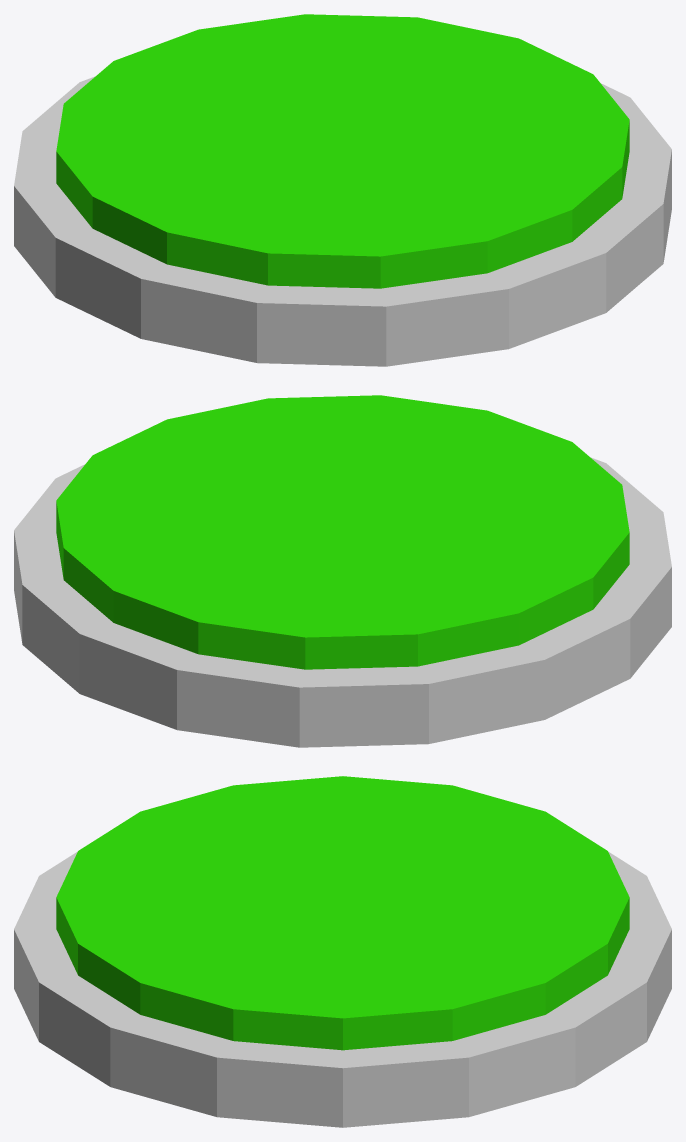
File: SM_Jumppad.fbx
3 renders of one model, top to bottom at view 1: azimuth 30°, elevation 25°; view 2: azimuth 150°, elevation 25°; view 3: azimuth 270°, elevation 25°, orthographic.
Visible parts, largest first — view 1: SM_Jumppad; view 2: SM_Jumppad; view 3: SM_Jumppad.
Part boxes in pixels (x1,y1,x2,y2): SM_Jumppad: (14,14,671,366); SM_Jumppad: (14,395,671,747); SM_Jumppad: (14,776,671,1127).
Size of the model in its own units: 200 by 30.69 by 200.
